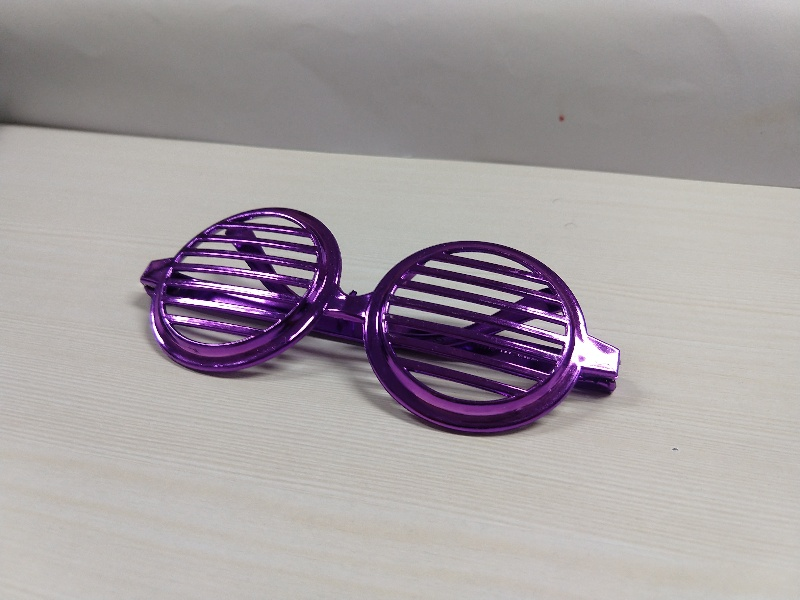shades: (140, 201, 625, 444)
